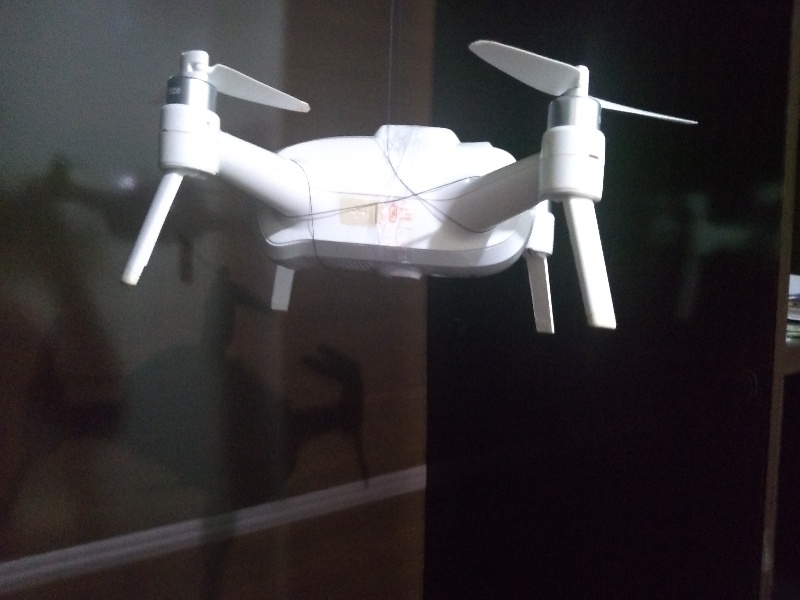drone: (110, 37, 696, 347)
